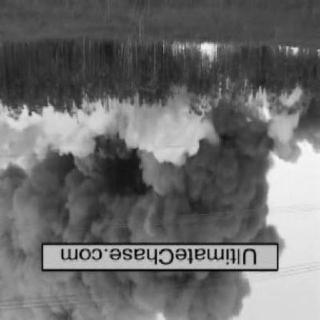Fire: (215, 76, 283, 126), (272, 46, 310, 72)
Smoke: (6, 114, 270, 240), (4, 274, 242, 318)
